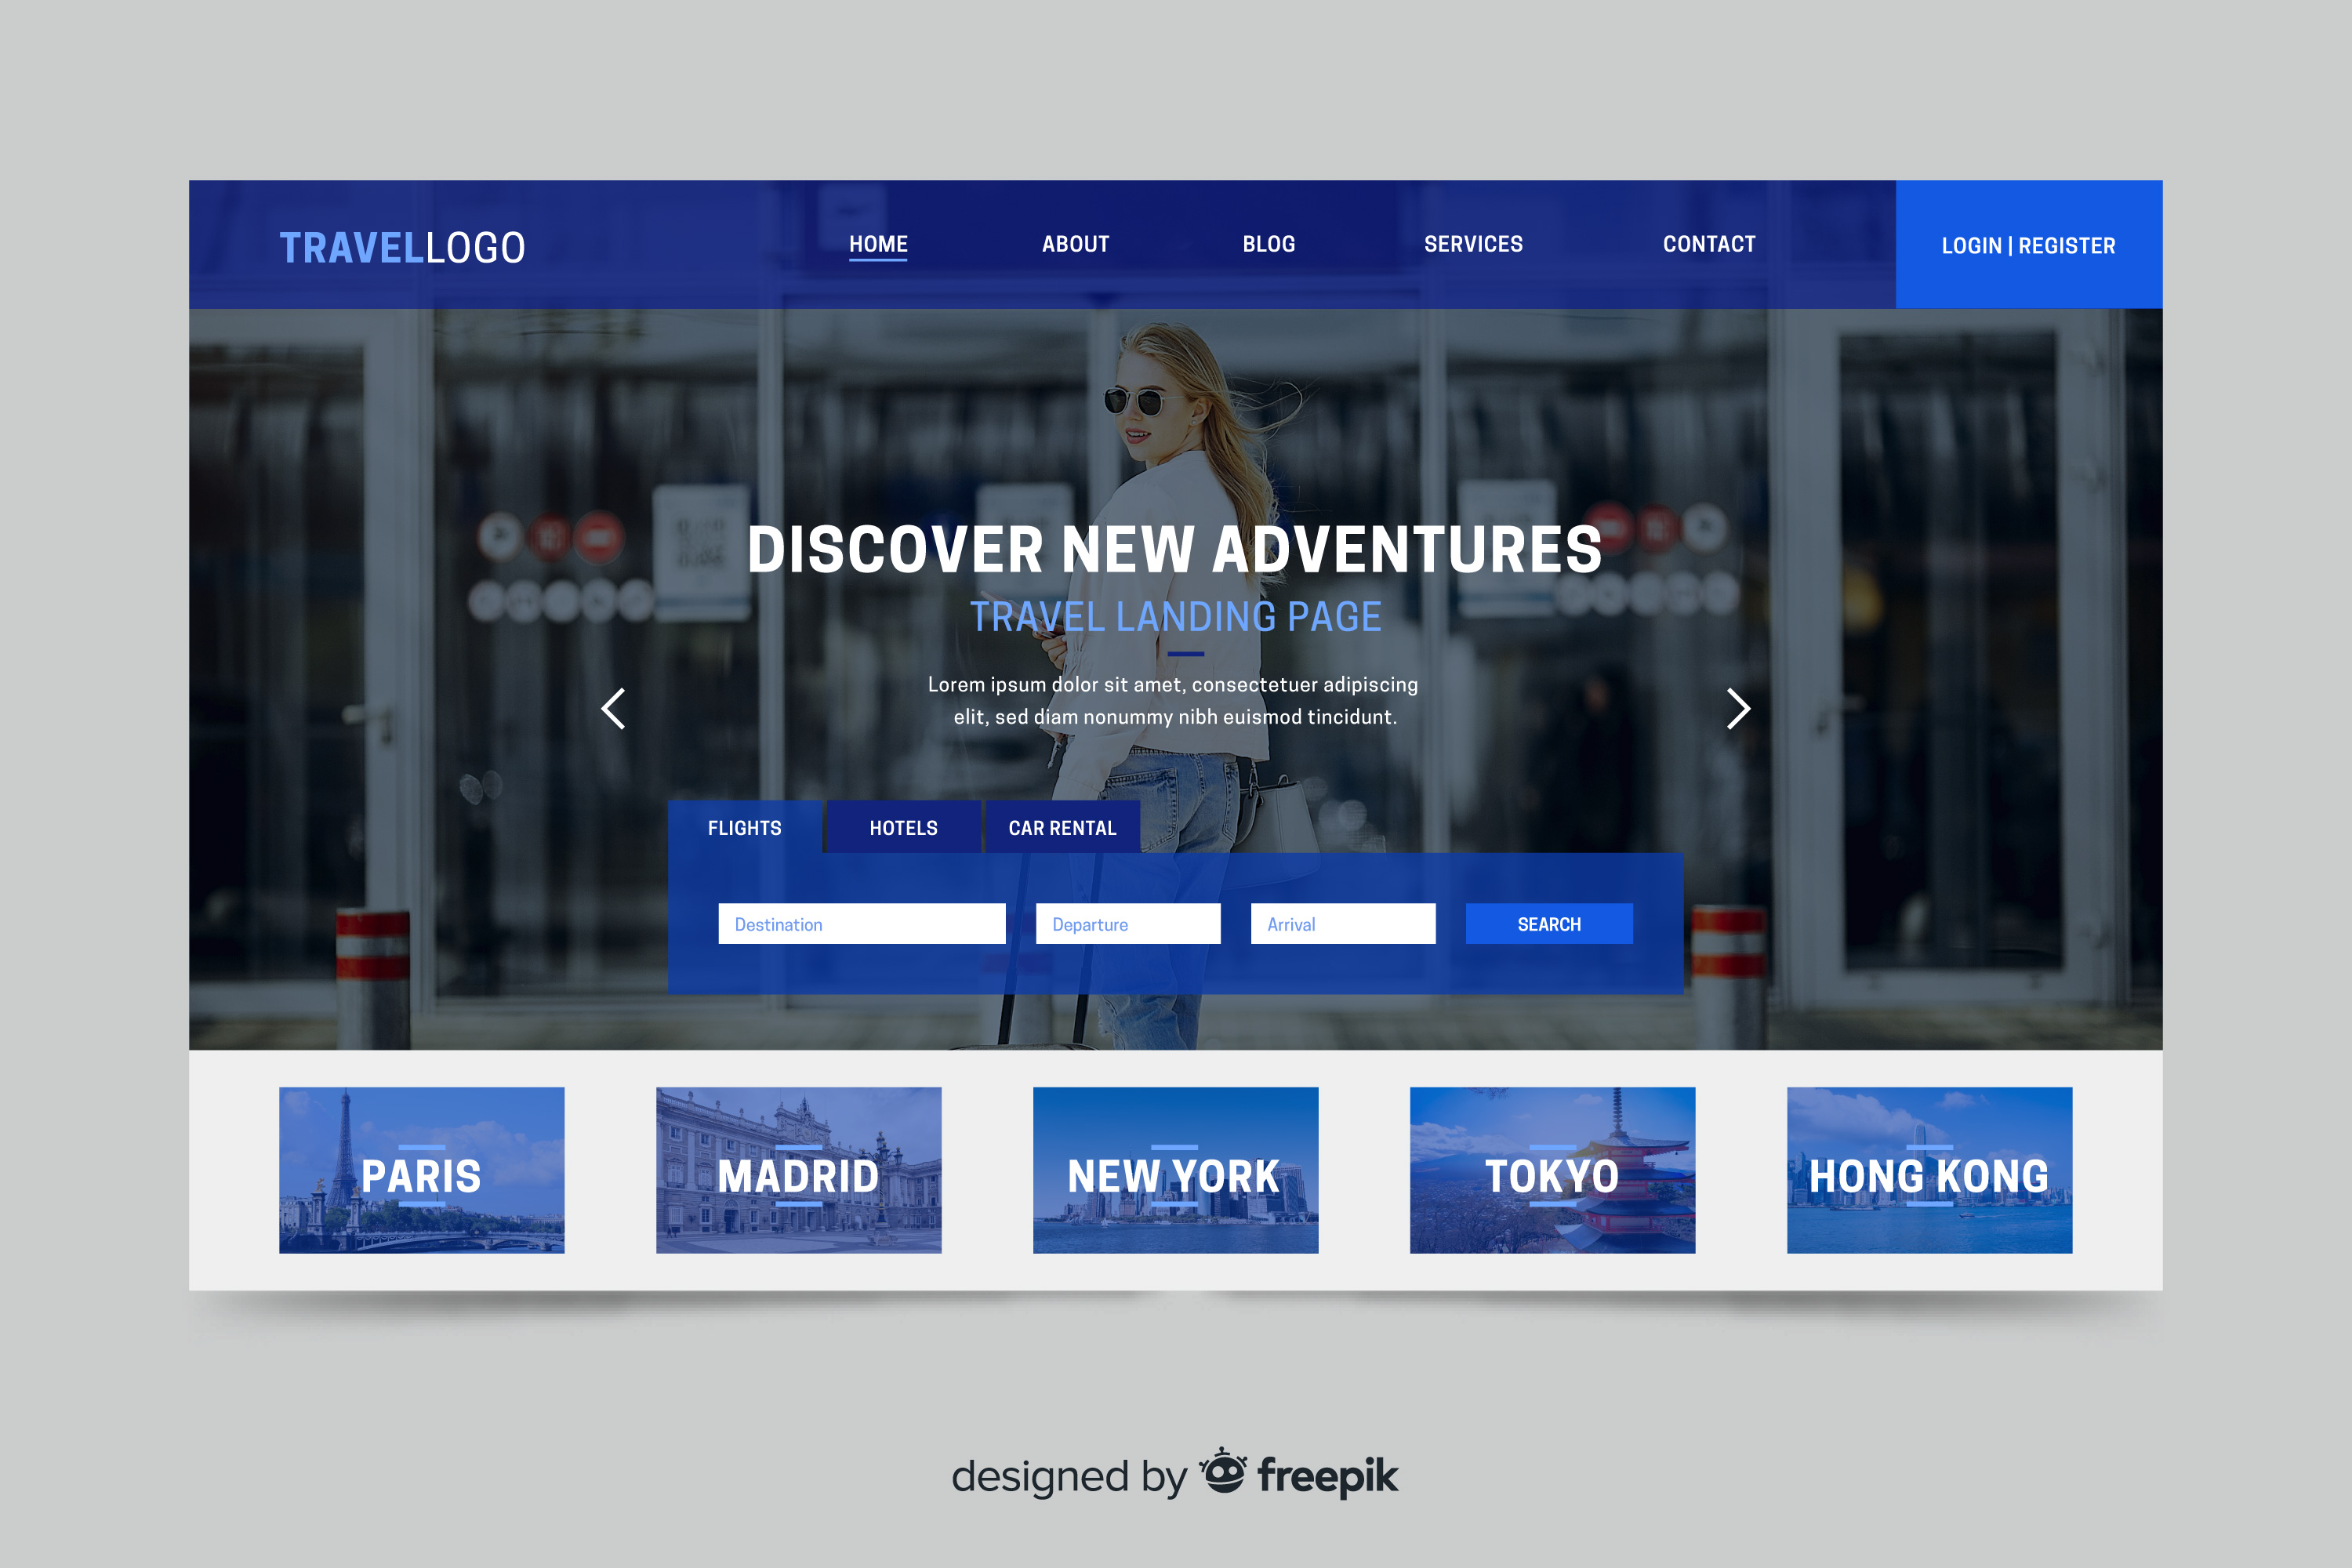menu: (231, 207, 2163, 362)
